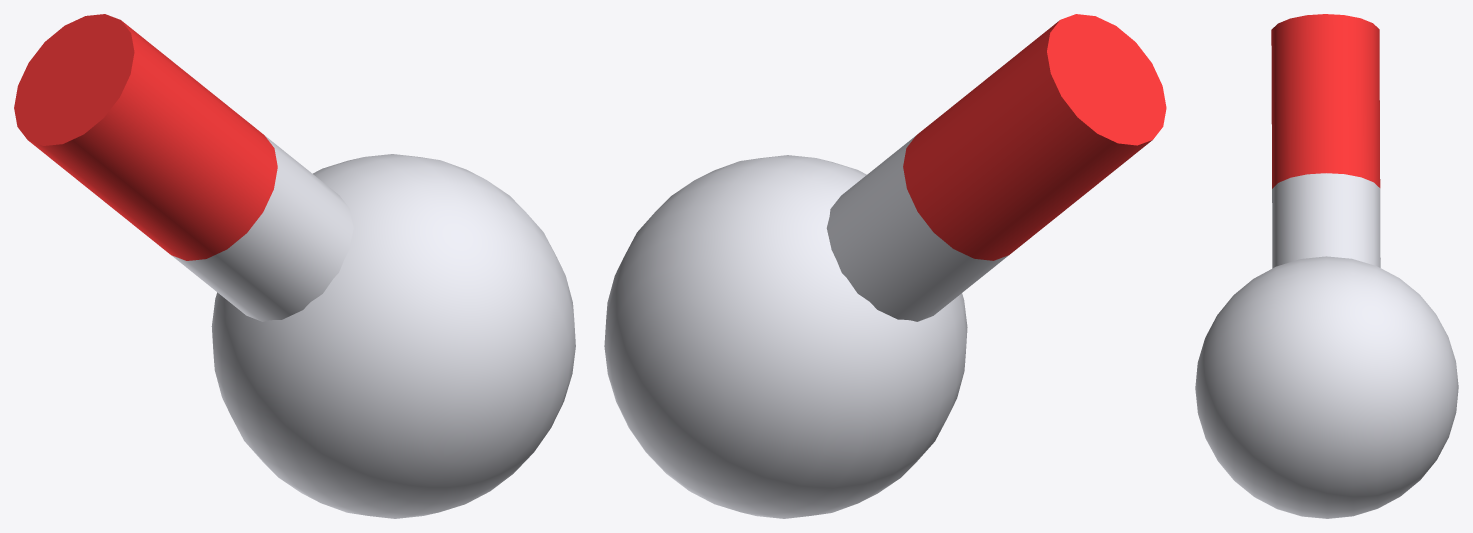
3 renders of one model, left to right at view 1: azimuth 30°, elevation 25°; view 2: azimuth 150°, elevation 25°; view 3: azimuth 270°, elevation 25°, orthographic. The views are drawn at different scales.
Visible parts, largest first — view 1: Line012; view 2: Line012; view 3: Line012.
Part boxes in pixels (bbox=[...]): Line012: bbox=[14, 14, 575, 518]; Line012: bbox=[604, 14, 1166, 518]; Line012: bbox=[1195, 14, 1458, 518].
Bounding box in the file's own units: 19.93 × 19.93 × 12.
Materials: 1 (1 with a texture image).
